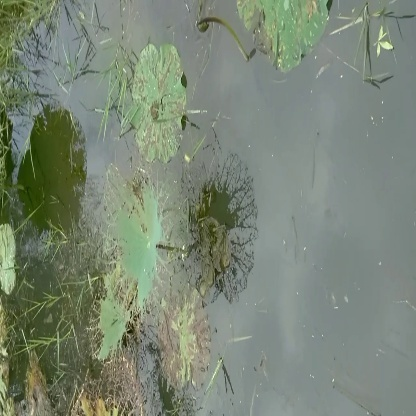leaf: (118, 43, 206, 164)
